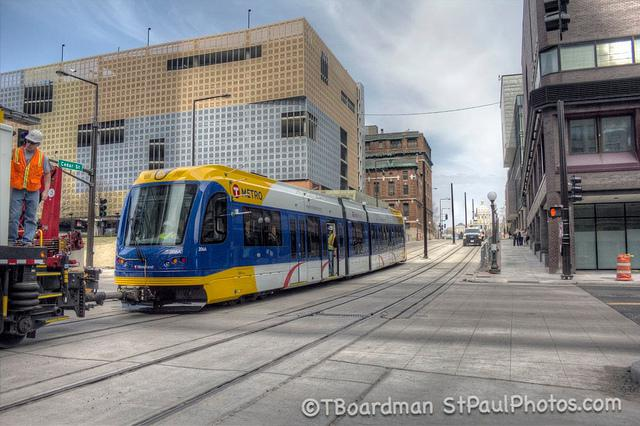Train: (113, 165, 408, 315), (2, 107, 61, 344)
